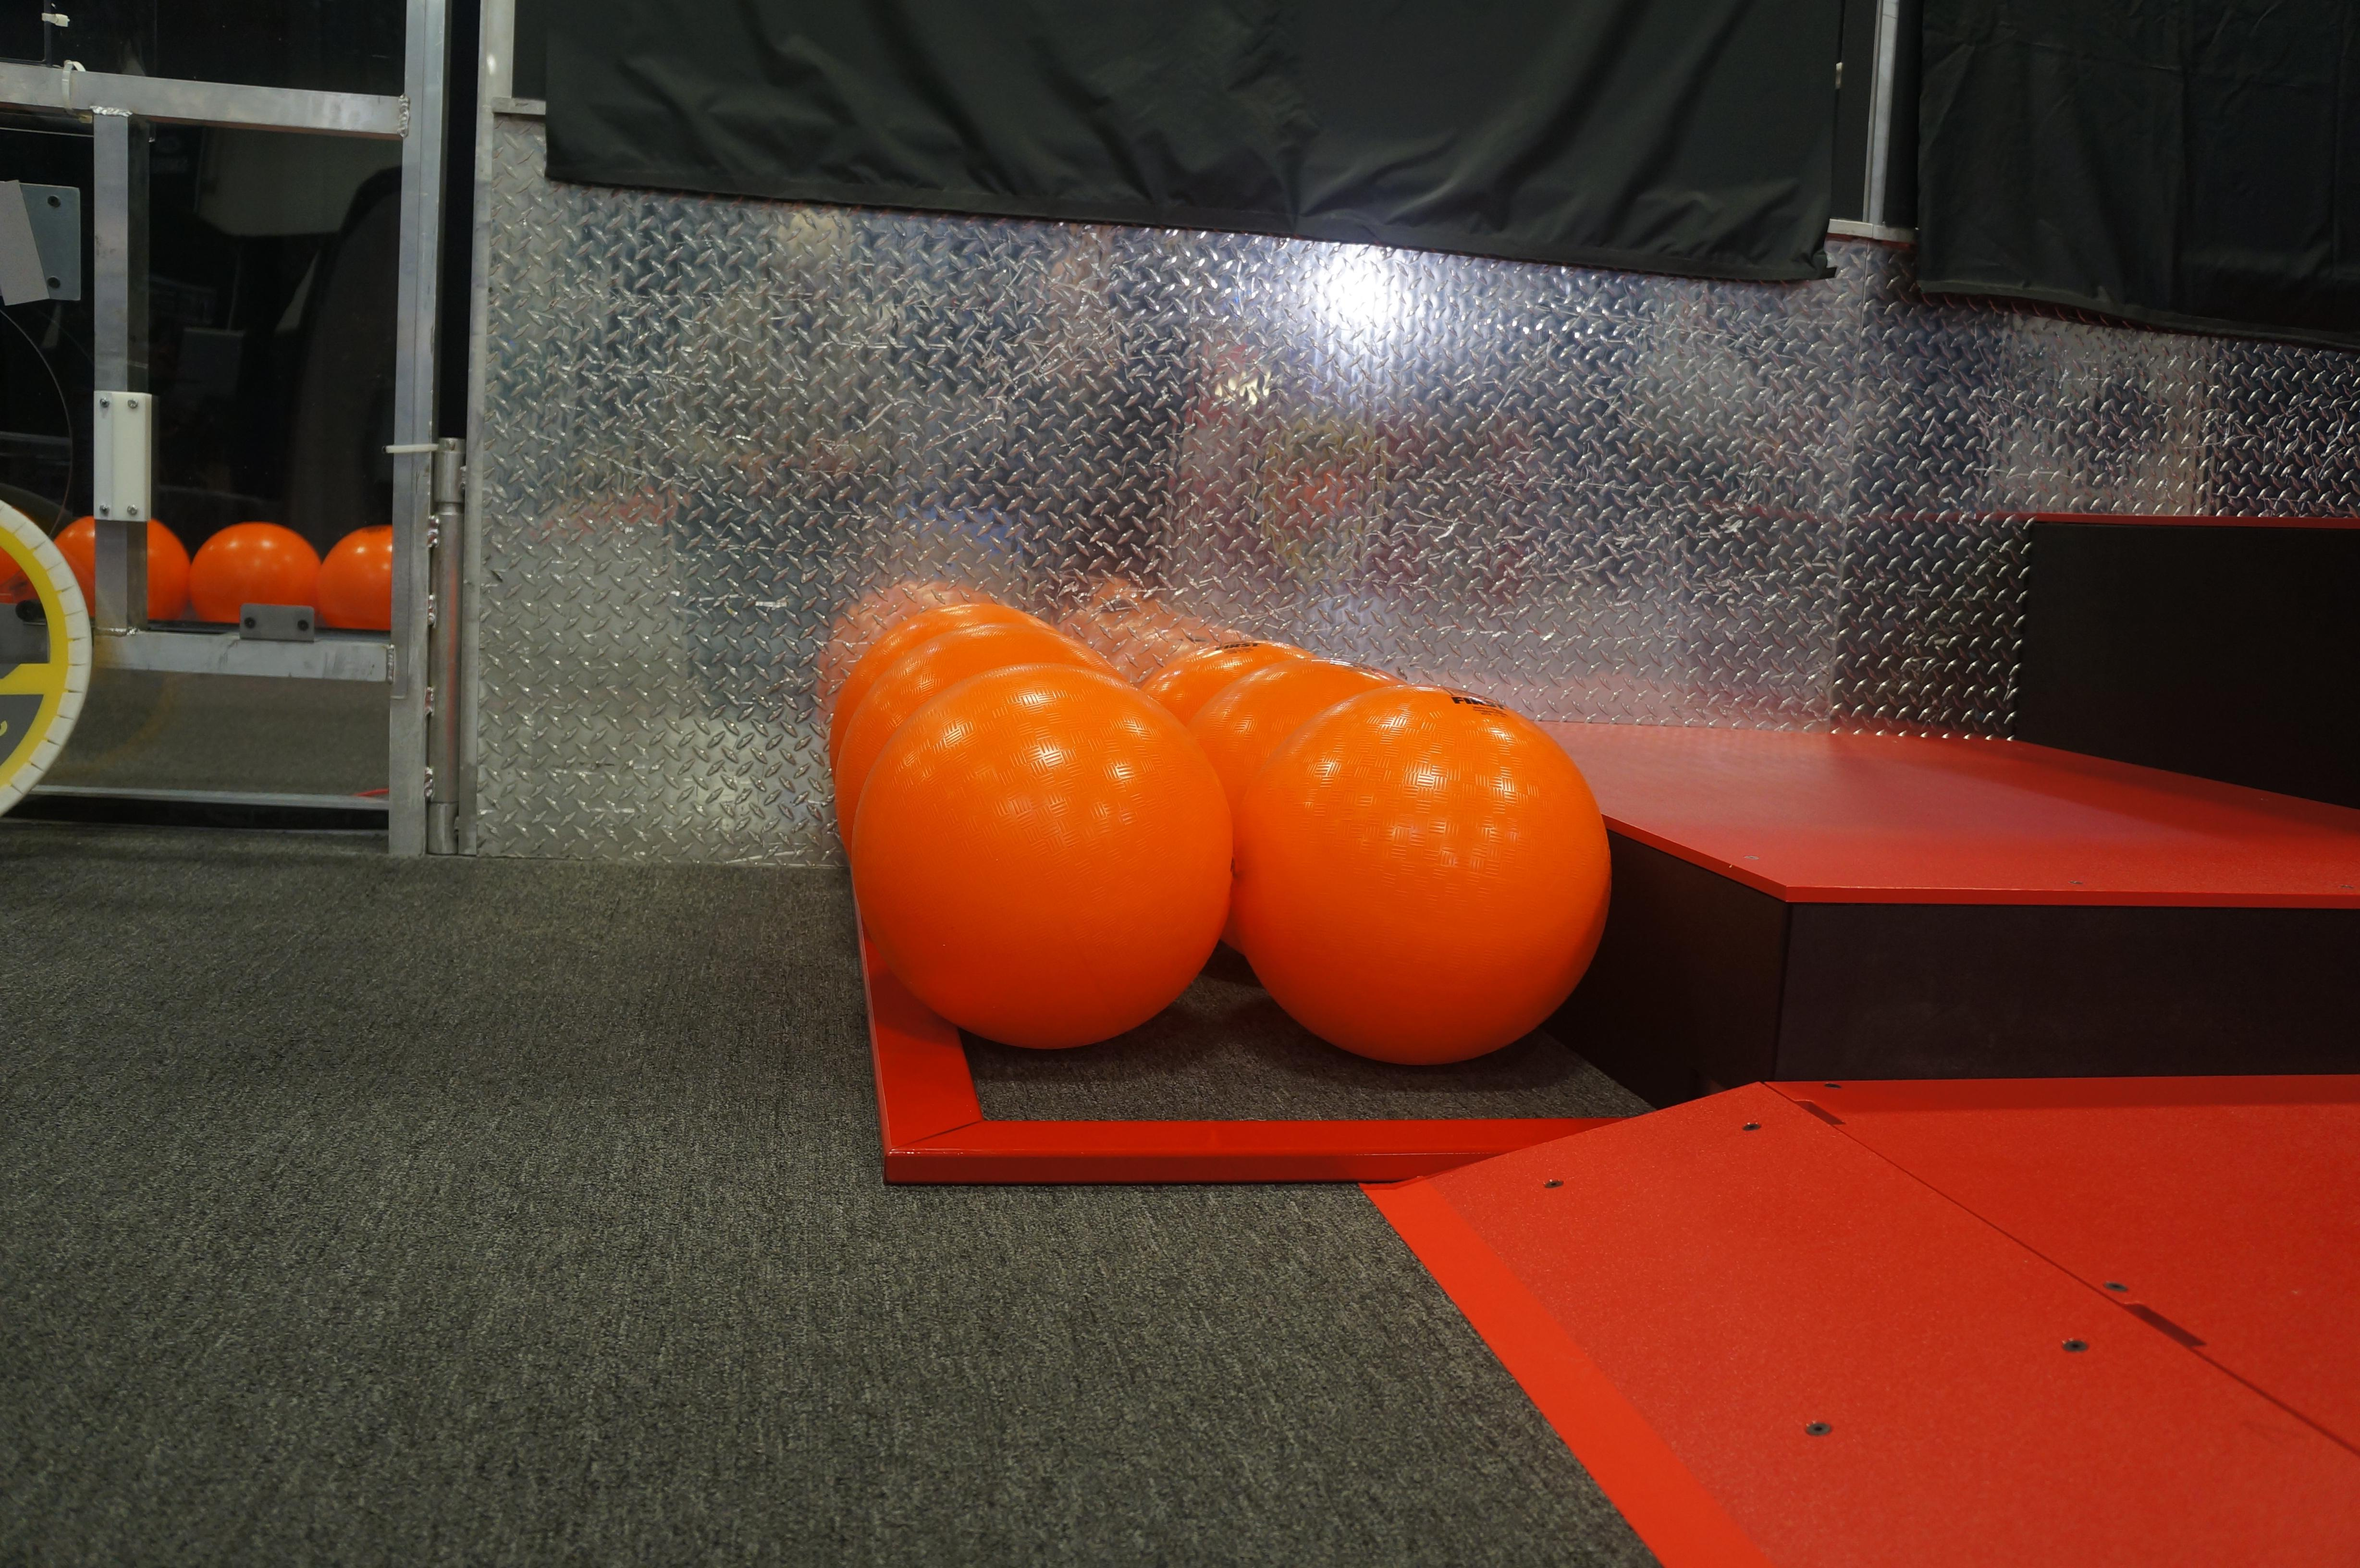Ball: (852, 663, 1240, 1055), (1237, 688, 1616, 1066), (833, 623, 1141, 870), (1195, 653, 1408, 957), (829, 597, 1069, 766), (51, 516, 192, 632), (1132, 639, 1317, 719), (194, 514, 317, 630), (320, 514, 397, 635)
Hatch: (0, 499, 94, 842)
